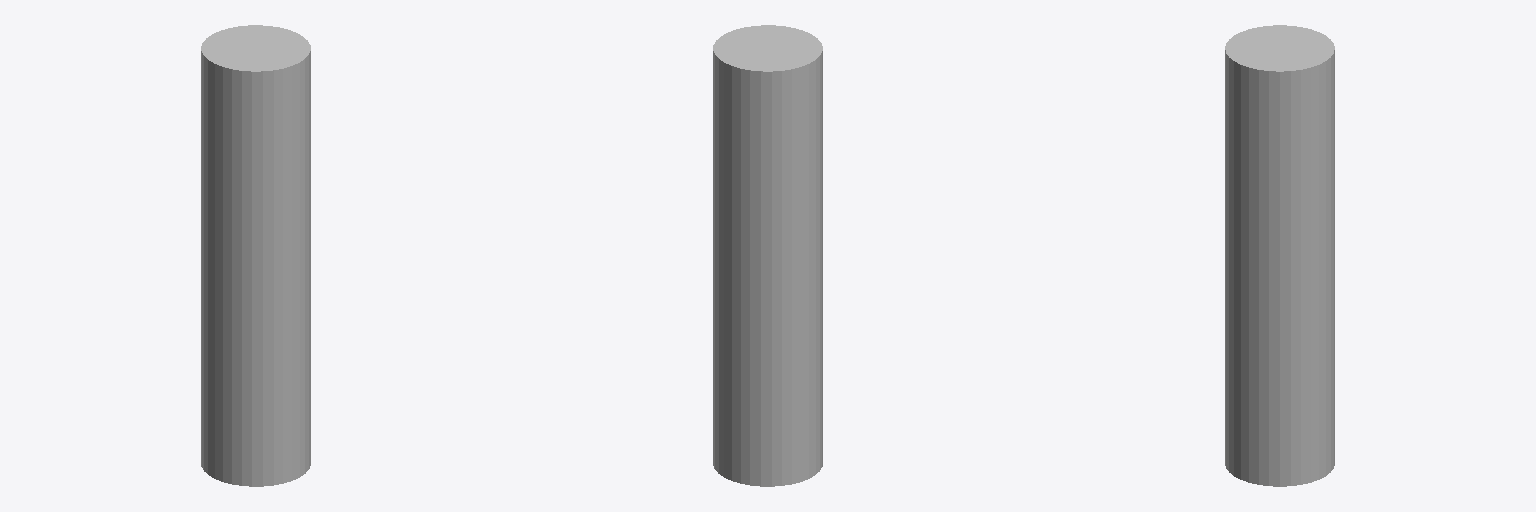
3 views of the same model, side by side, from view 1: azimuth 30°, elevation 25°; view 2: azimuth 150°, elevation 25°; view 3: azimuth 270°, elevation 25° (orthographic).
Parts seen in each view (by area): view 1: Assembly_Peg_Rod; view 2: Assembly_Peg_Rod; view 3: Assembly_Peg_Rod.
Boxes of the visible parts, x1,y1,x2,y2 form: Assembly_Peg_Rod: [201, 25, 310, 486]; Assembly_Peg_Rod: [713, 25, 822, 486]; Assembly_Peg_Rod: [1225, 25, 1334, 486].
Bounding box in the file's own units: 0.24 × 1 × 0.24.